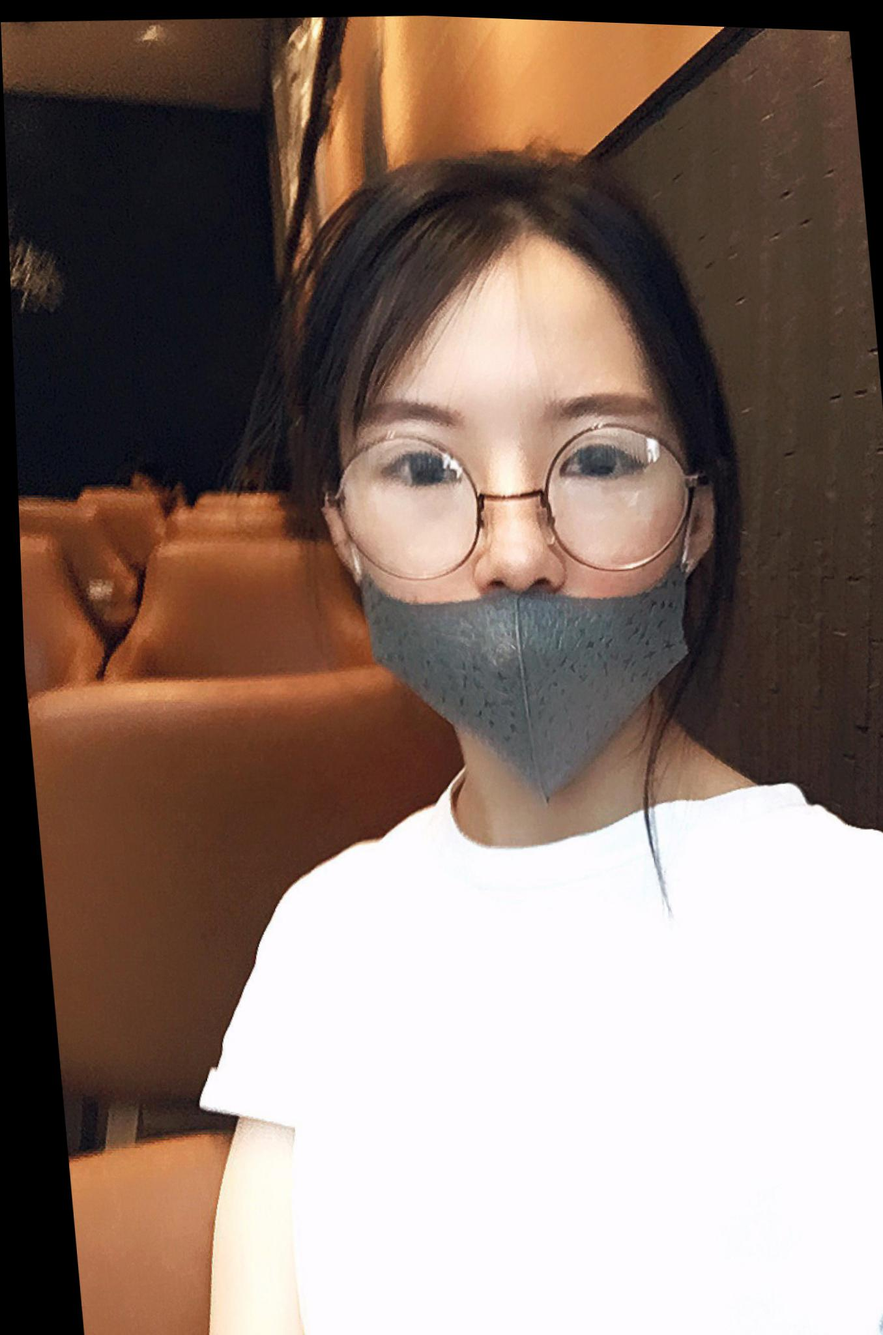WRONG: (316, 330, 707, 774)
